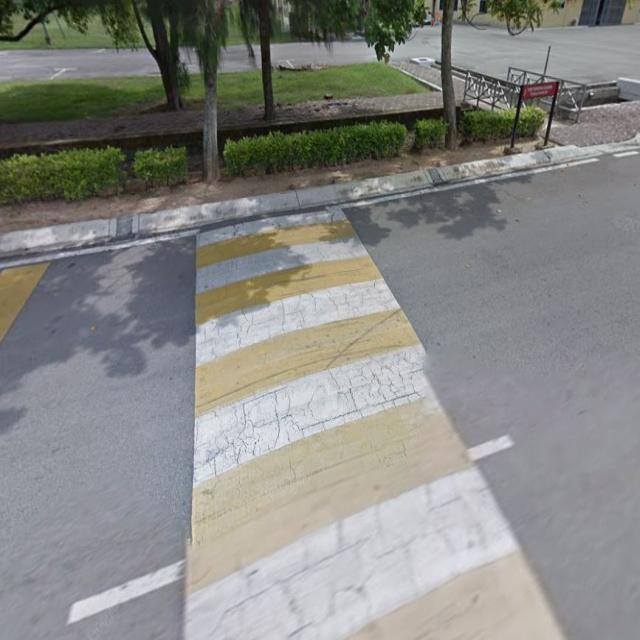speed-bump: (170, 216, 565, 640)
